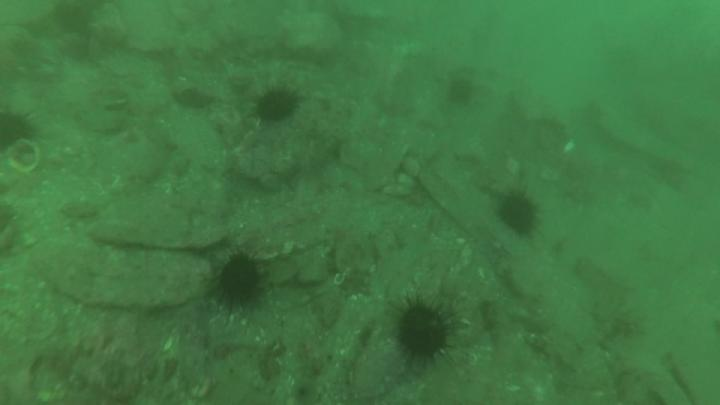echinus: (400, 306, 450, 361), (212, 258, 258, 306), (500, 197, 538, 236), (256, 91, 300, 120)
